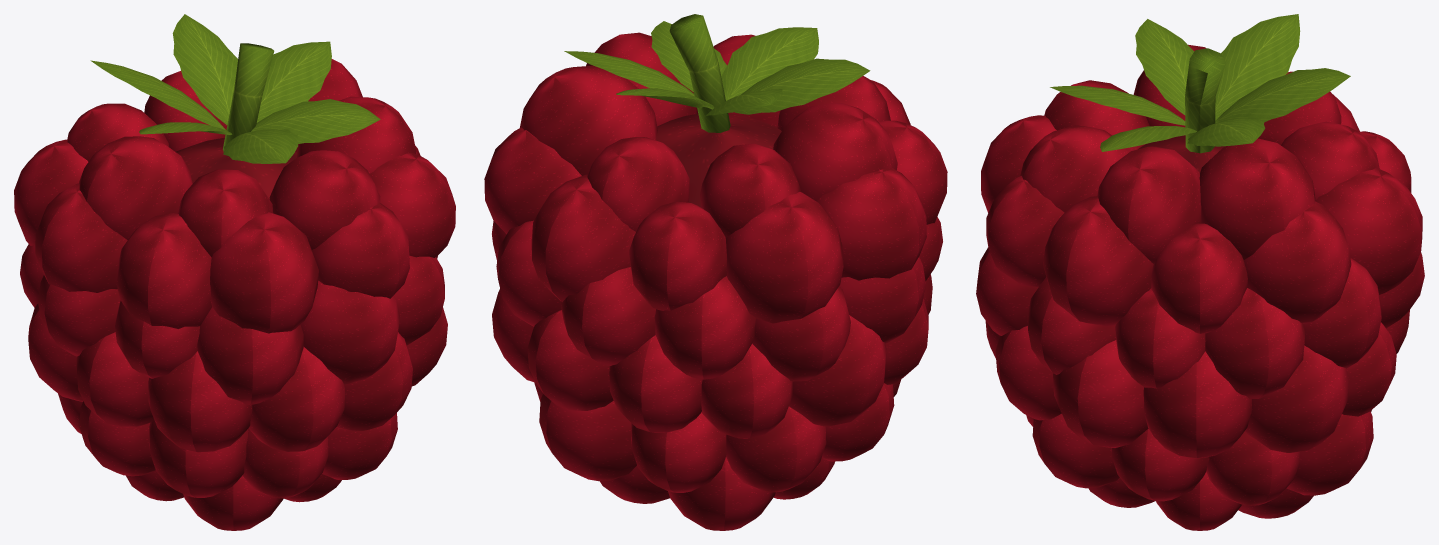
The model's file is raspberry.glb.
The picture shows the model from 3 angles, left to right: view 1: azimuth 30°, elevation 25°; view 2: azimuth 150°, elevation 25°; view 3: azimuth 270°, elevation 25°; orthographic projection. The views are drawn at different scales.
Visible parts, largest first — view 1: raspberry-mesh; view 2: raspberry-mesh; view 3: raspberry-mesh.
Boxes of the visible parts, x1,y1,x2,y2 form: raspberry-mesh: [14, 14, 455, 530]; raspberry-mesh: [484, 14, 947, 530]; raspberry-mesh: [976, 14, 1424, 530].
Bounding box in the file's own units: 0.0591 × 0.0666 × 0.0586.
Materials: 3 (3 with a texture image).
